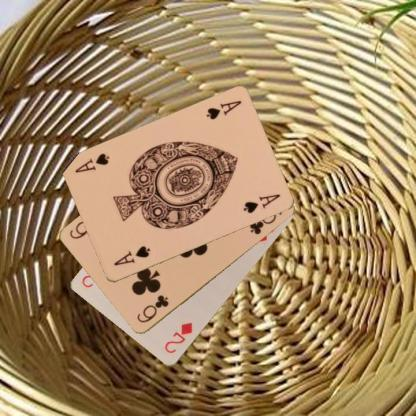2d: (162, 320, 194, 355)
6c: (134, 292, 170, 325)
As: (111, 243, 151, 268), (203, 98, 243, 122)
